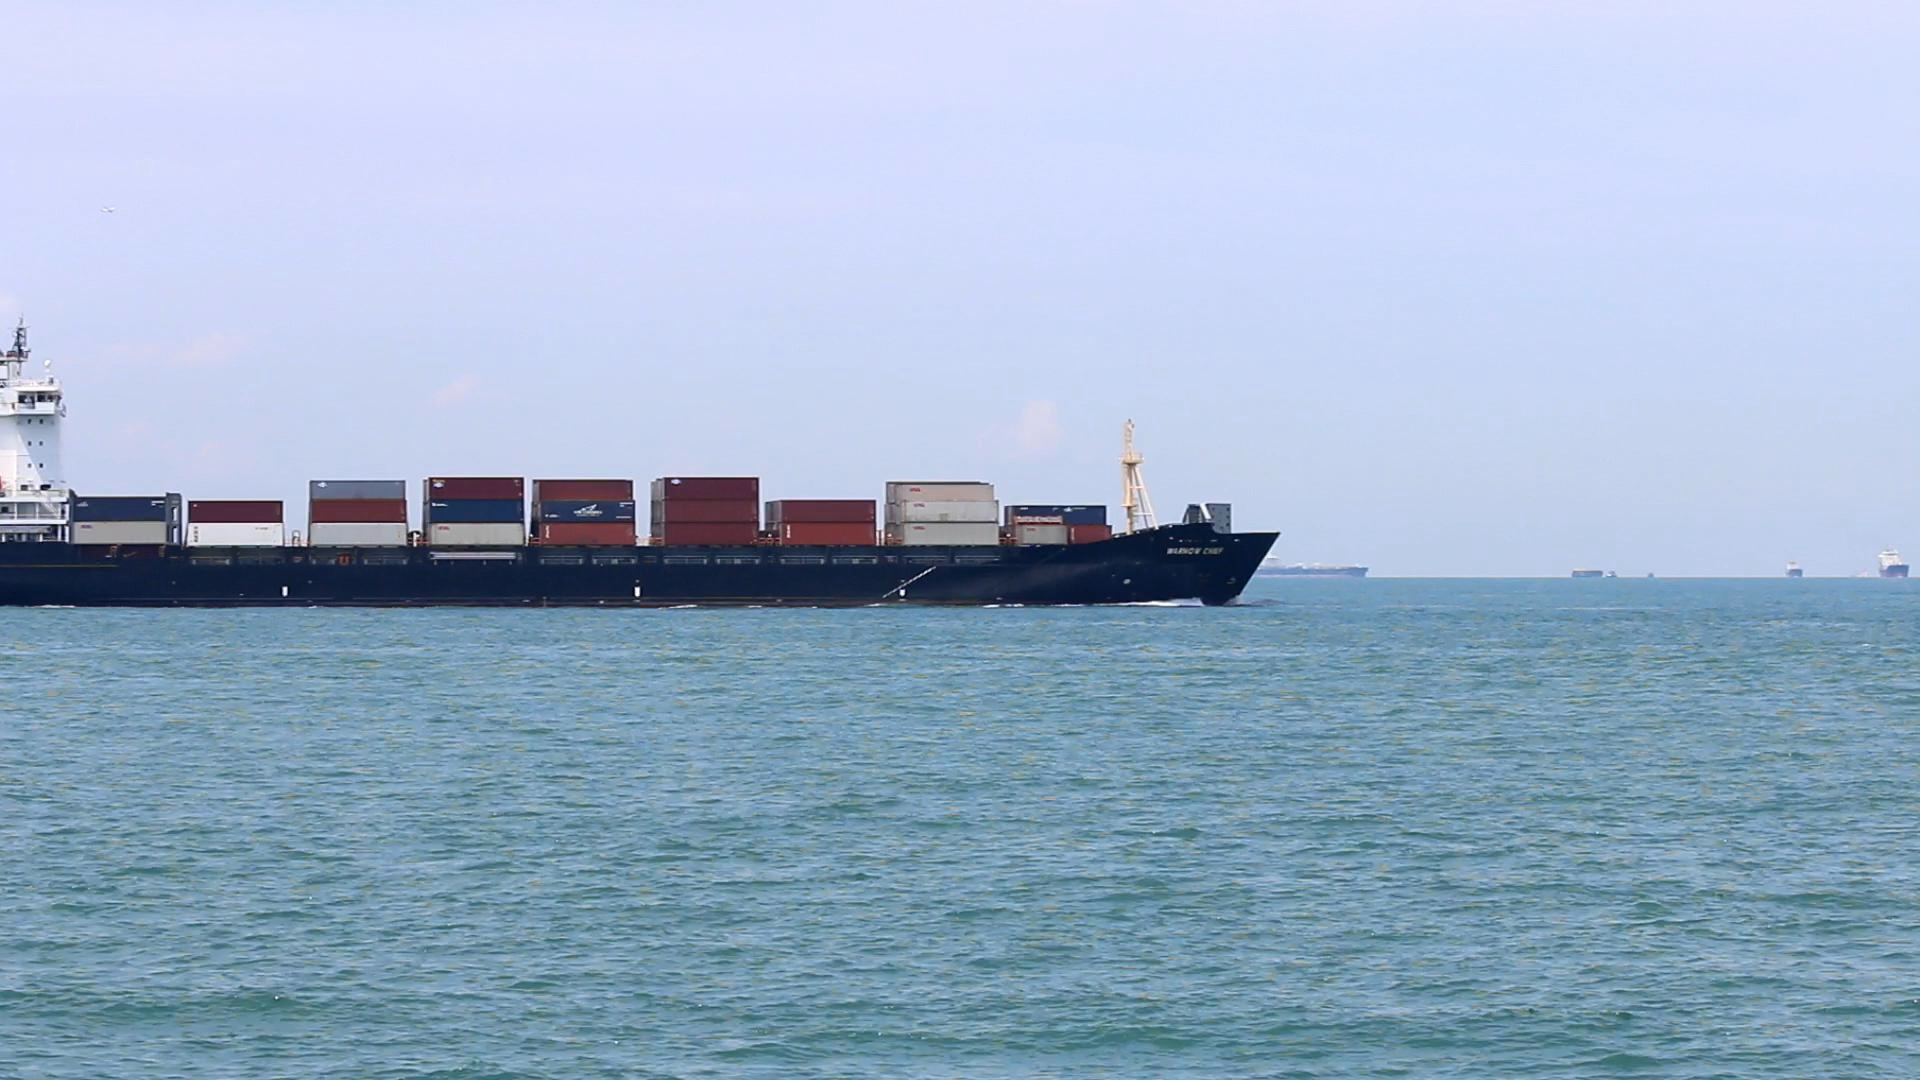Container Ship: (1, 359, 1293, 610), (1567, 554, 1628, 594), (1869, 540, 1920, 587), (1779, 549, 1822, 584), (1644, 554, 1670, 590)
